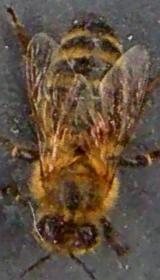varroa_mite: (85, 111, 118, 150)
